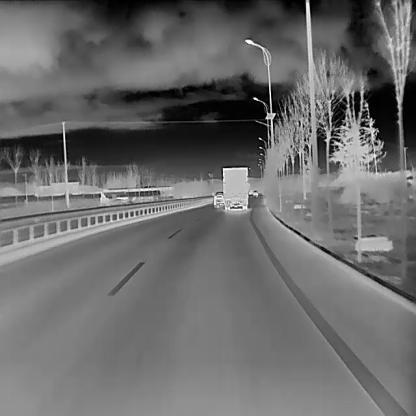car: (222, 166, 249, 210), (212, 190, 225, 206), (253, 188, 258, 197)
